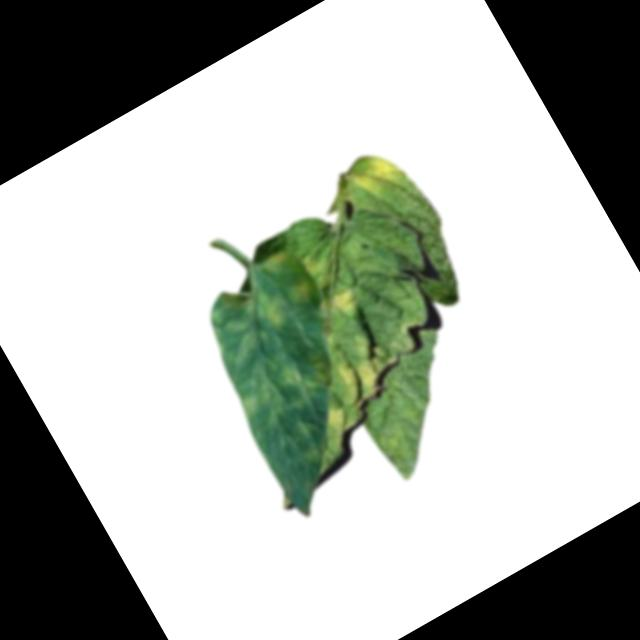Leaf_Mold: (231, 343, 344, 439), (195, 286, 268, 372), (329, 331, 397, 403), (347, 146, 408, 205), (248, 280, 297, 335), (324, 277, 375, 328), (263, 238, 299, 271), (288, 272, 321, 307), (321, 399, 354, 433)
